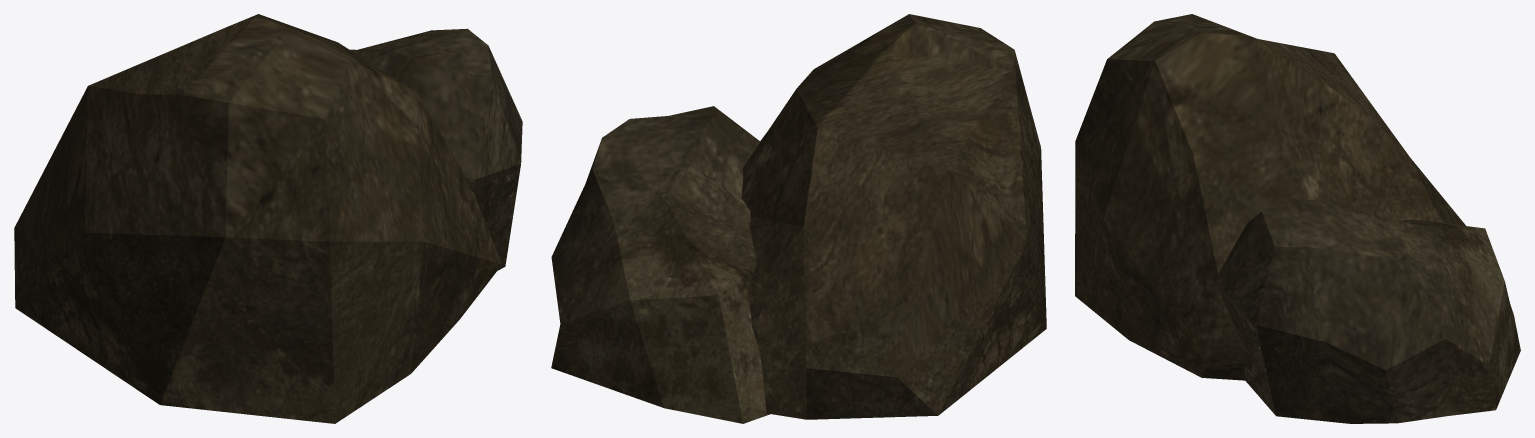
File: stone_01.fbx
The picture shows the model from 3 angles, left to right: view 1: azimuth 30°, elevation 25°; view 2: azimuth 150°, elevation 25°; view 3: azimuth 270°, elevation 25°; orthographic projection. The views are drawn at different scales.
Parts seen in each view (by area): view 1: stone_01; view 2: stone_01; view 3: stone_01.
Part boxes in pixels (bbox=[...]): stone_01: bbox=[14, 14, 522, 423]; stone_01: bbox=[551, 14, 1046, 423]; stone_01: bbox=[1075, 14, 1520, 423].
Bounding box in the file's own units: 105 × 69.95 × 102.
1 material, 1 textured.
